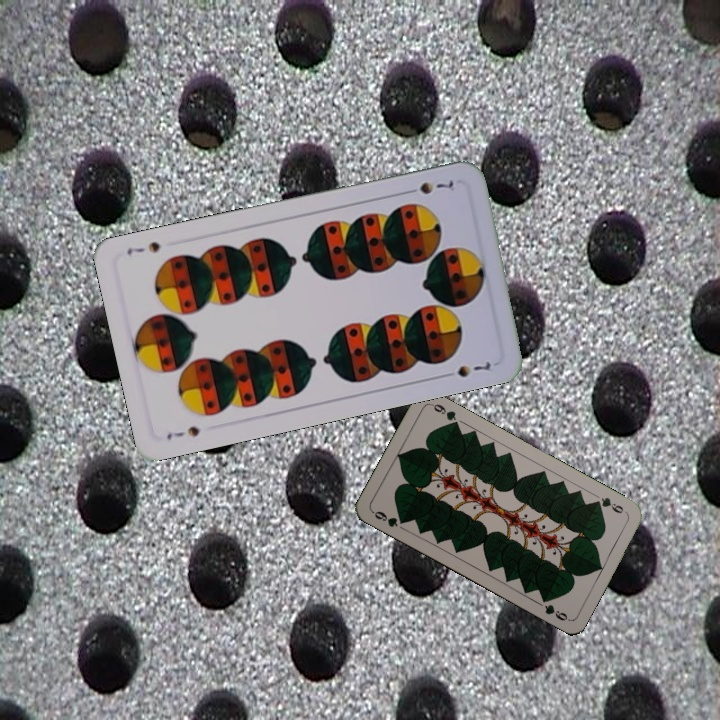G9: (368, 507, 409, 530), (590, 493, 629, 516)
S7: (401, 176, 459, 197), (162, 422, 203, 443)
